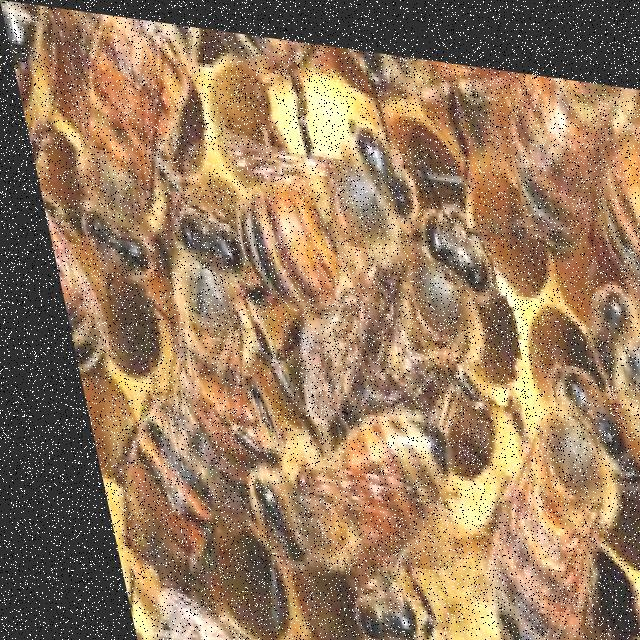Apis-mellifera-scutellata: (237, 149, 542, 493), (43, 219, 278, 618), (206, 358, 478, 635), (407, 326, 640, 640), (188, 71, 438, 328), (26, 3, 220, 225), (503, 56, 627, 278), (578, 233, 640, 639), (554, 63, 640, 306)
